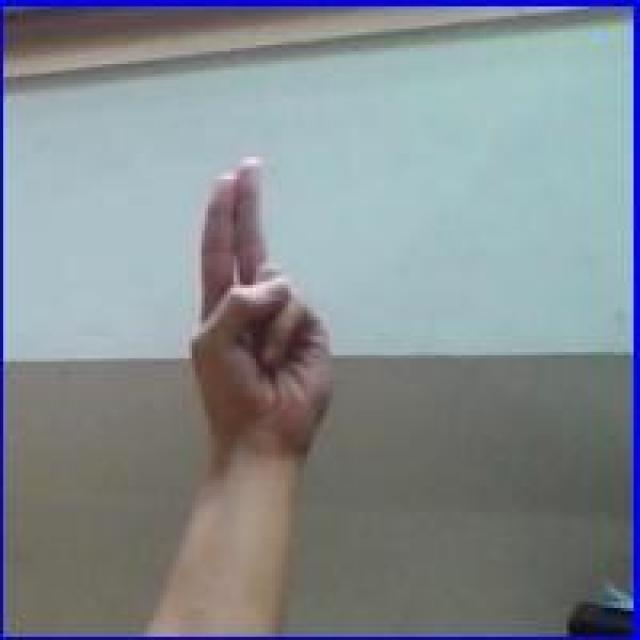U: (182, 149, 340, 478)
